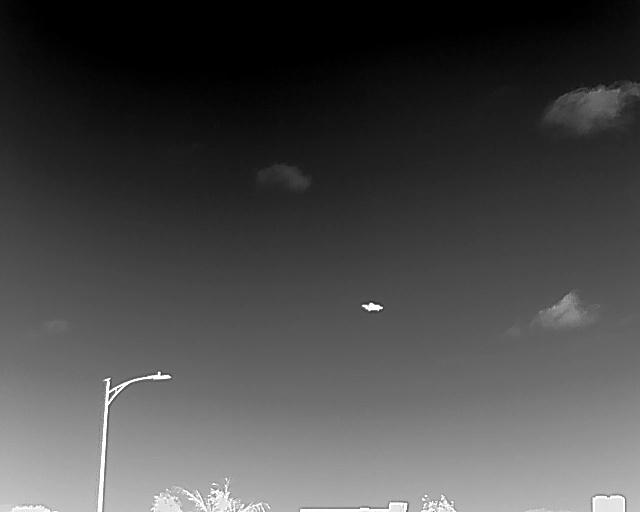fpv-drone: (362, 302, 383, 311)
